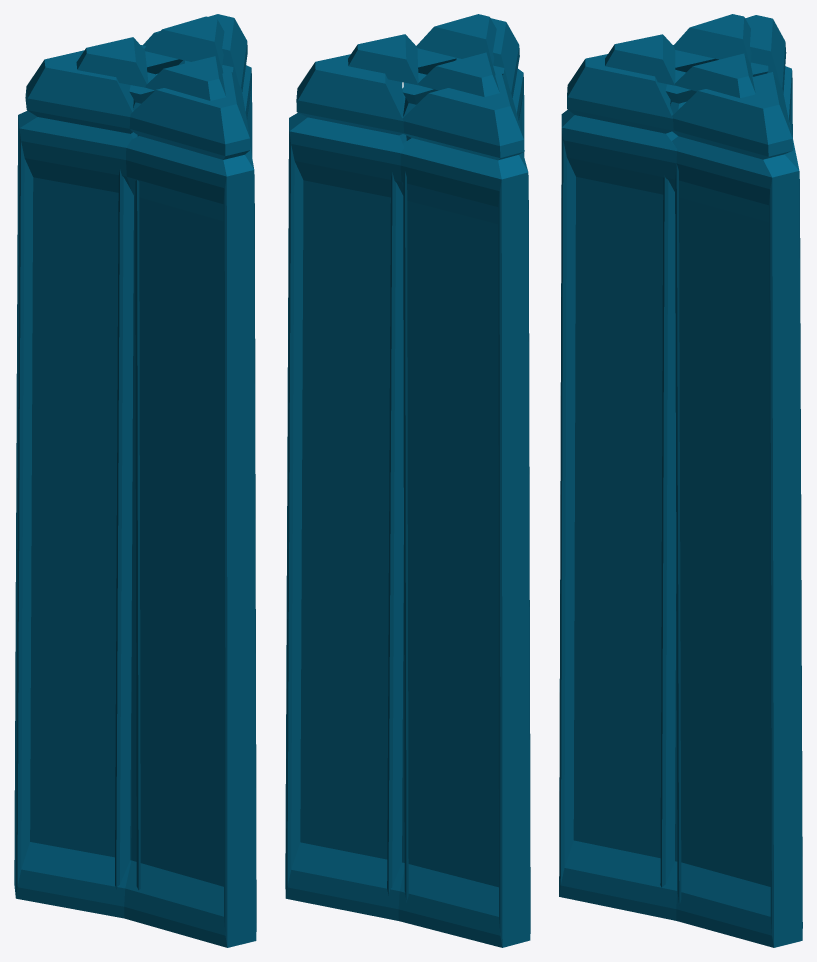
File: edificio 8.fbx
3 renders of one model, left to right at view 1: azimuth 30°, elevation 25°; view 2: azimuth 150°, elevation 25°; view 3: azimuth 270°, elevation 25°, orthographic.
Parts seen in each view (by area): view 1: polySurface2538; view 2: polySurface2538; view 3: polySurface2538.
Boxes of the visible parts, x1,y1,x2,y2 form: polySurface2538: (14,14,256,947); polySurface2538: (285,14,530,947); polySurface2538: (559,14,802,947).
Bounding box in the file's own units: 254 × 847 × 222.
